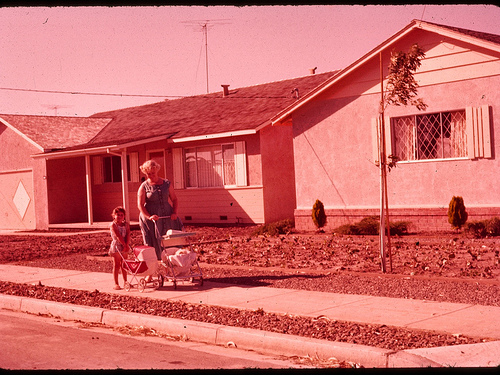without_mask: (144, 167, 163, 184), (111, 207, 127, 224)
